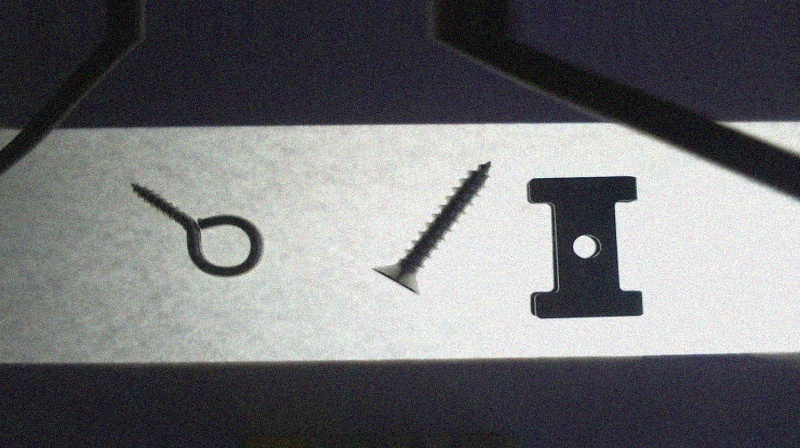O001: (126, 179, 265, 277)
O002: (525, 175, 647, 319)
S001: (372, 160, 491, 298)
